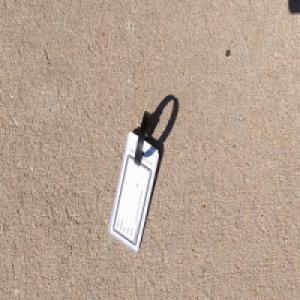LuggageTag: (108, 108, 159, 253)
